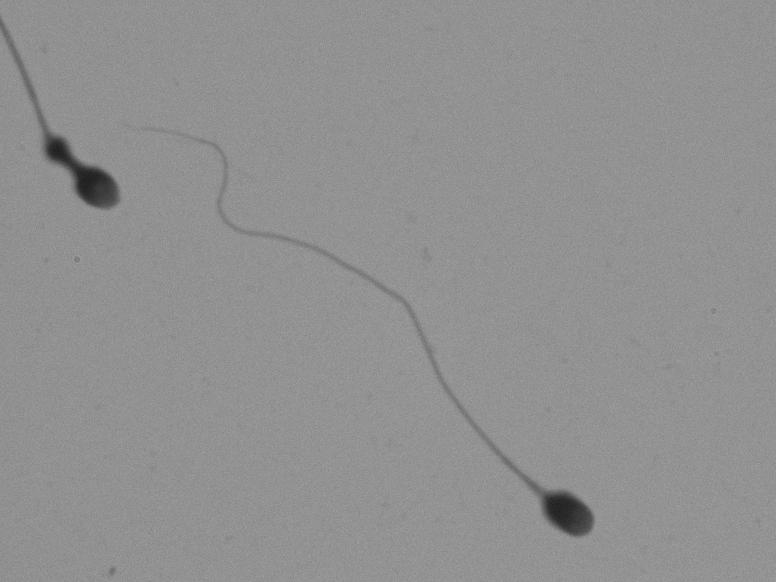Abnormal: (23, 45, 156, 310)
Normal: (132, 100, 622, 559)
